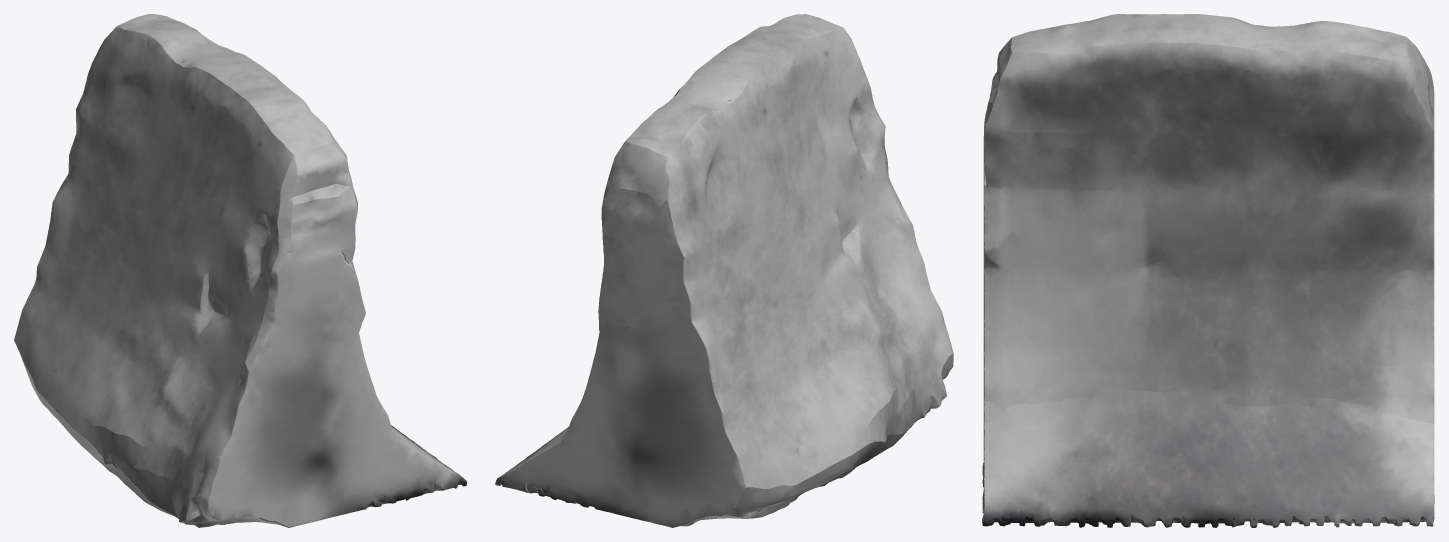
3 views of the same model, side by side, from view 1: azimuth 30°, elevation 25°; view 2: azimuth 150°, elevation 25°; view 3: azimuth 270°, elevation 25° (orthographic). The views are drawn at different scales.
Visible parts, largest first — view 1: world; view 2: world; view 3: world.
Part boxes in pixels (left/top/right/bottom): world: left=14, top=14, right=466, bottom=527; world: left=495, top=14, right=953, bottom=527; world: left=982, top=14, right=1434, bottom=527.
Bounding box in the file's own units: 0.1138 × 0.15 × 0.1436.
Materials: 1 (1 with a texture image).
